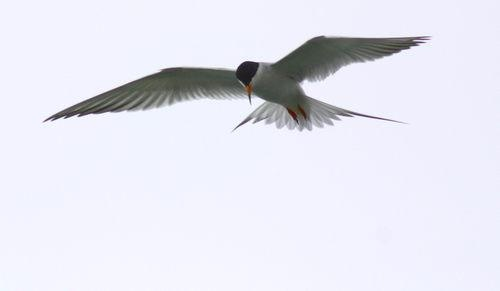bird: (36, 34, 434, 139)
